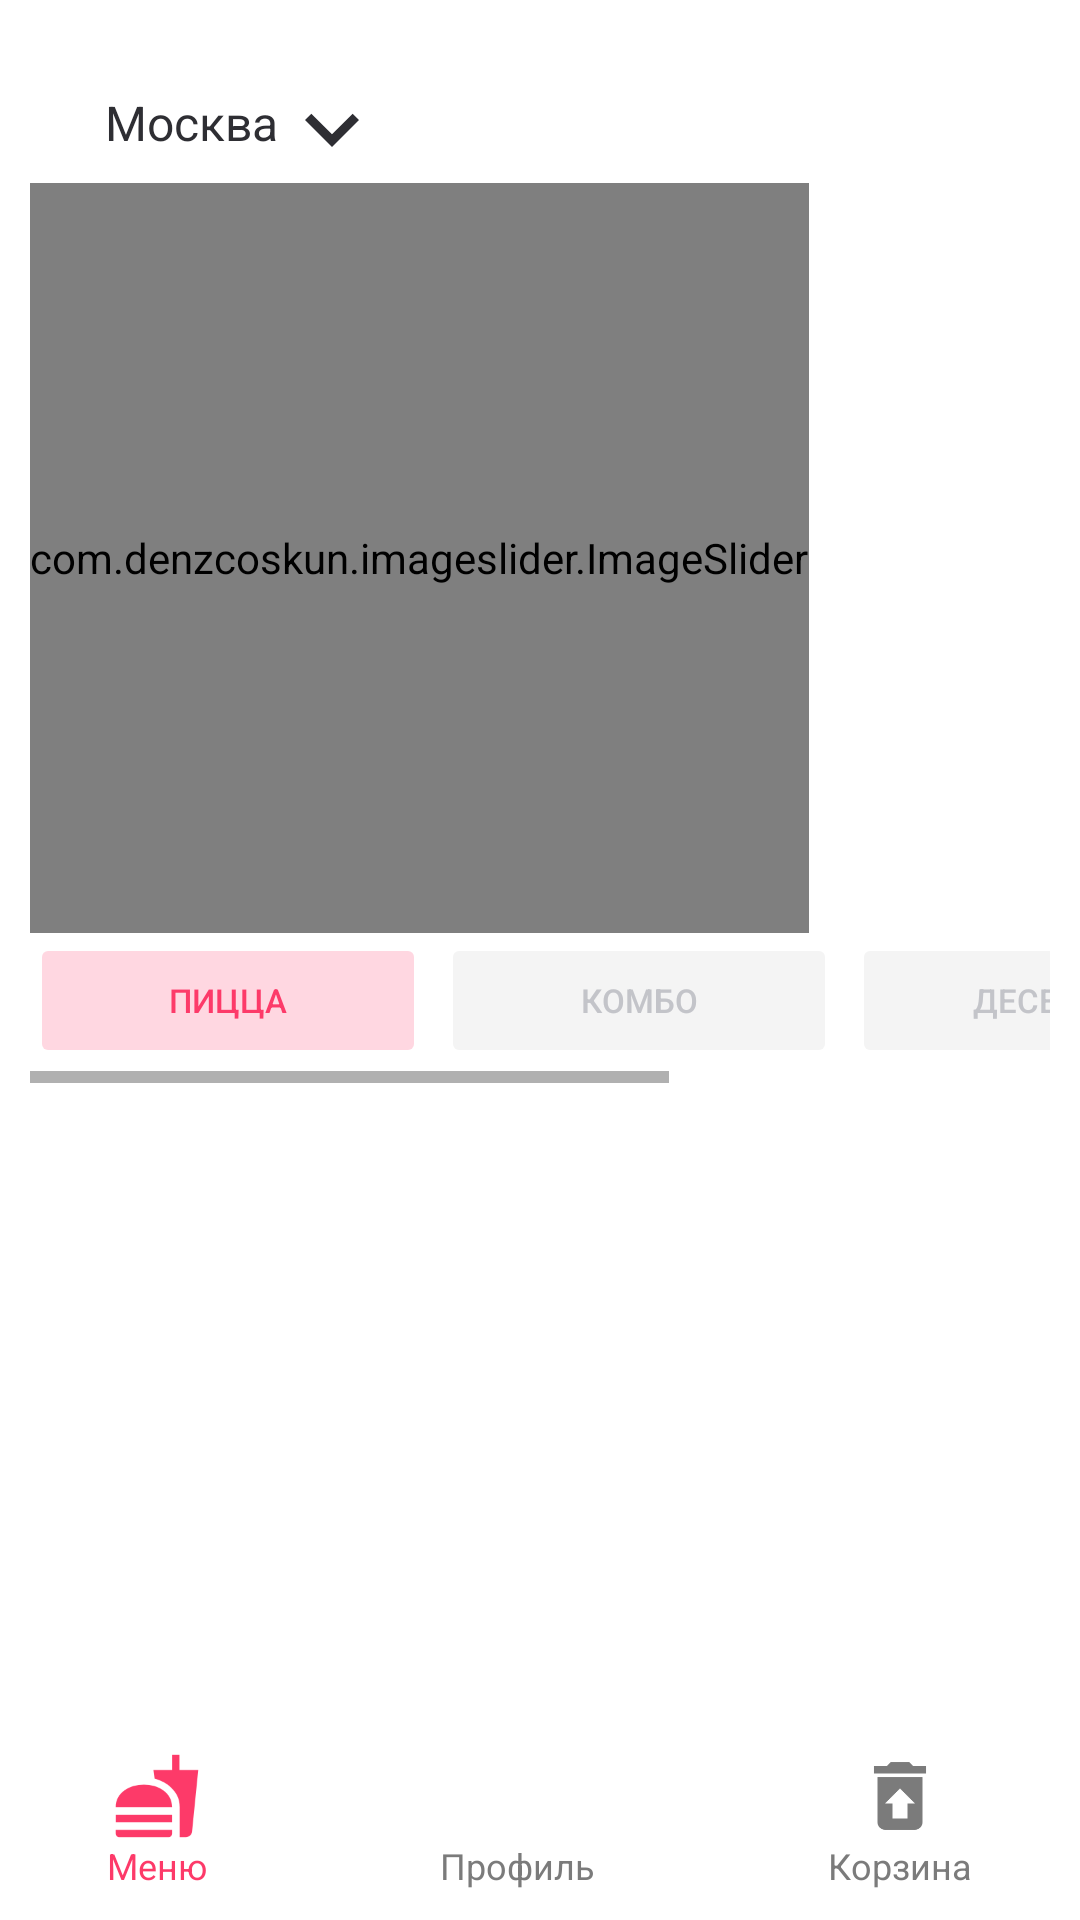

Icons on this 1080px×1920px Android screen, each with its box as (x1, y1, x2, y2):
fastfood: (115, 1754, 199, 1838)
keyboard arrow down: (305, 114, 359, 147)
restore from trash: (874, 1762, 926, 1830)
